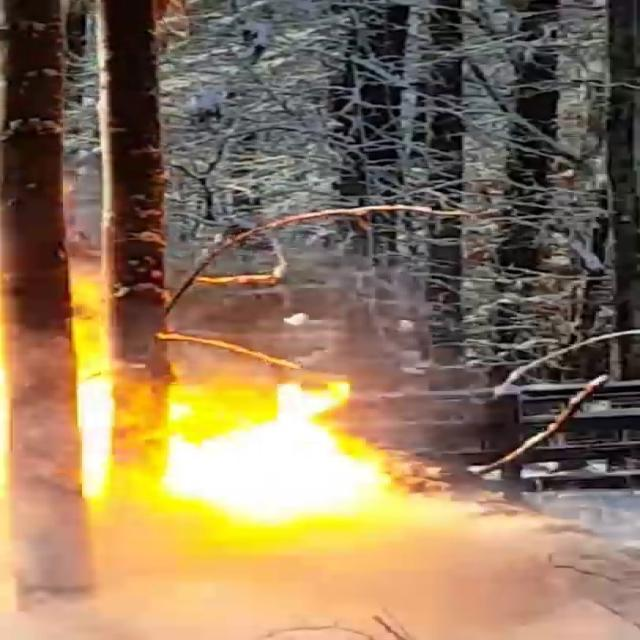Fire: (116, 365, 436, 539)
